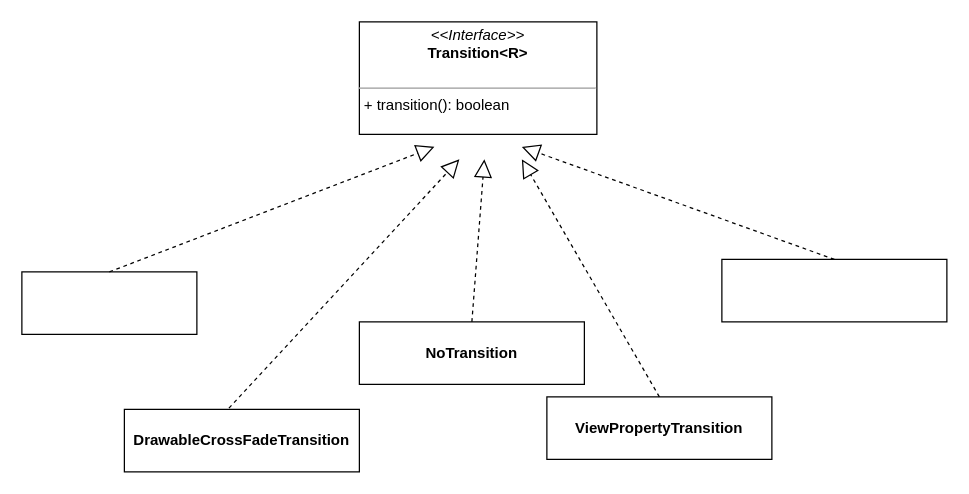
The diagram is 969 pixels wide and 494 high, and some of its shapes have lost their labels. Each missing label, with the centre of its shape:
"BitmapGlideAnimation" belongs at point (109, 302).
"ViewTransition" belongs at point (834, 290).
